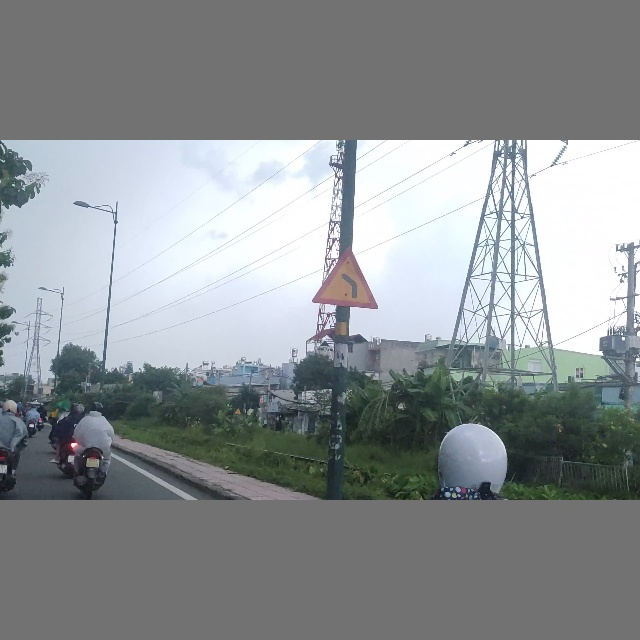W.201a: (313, 247, 380, 309)
